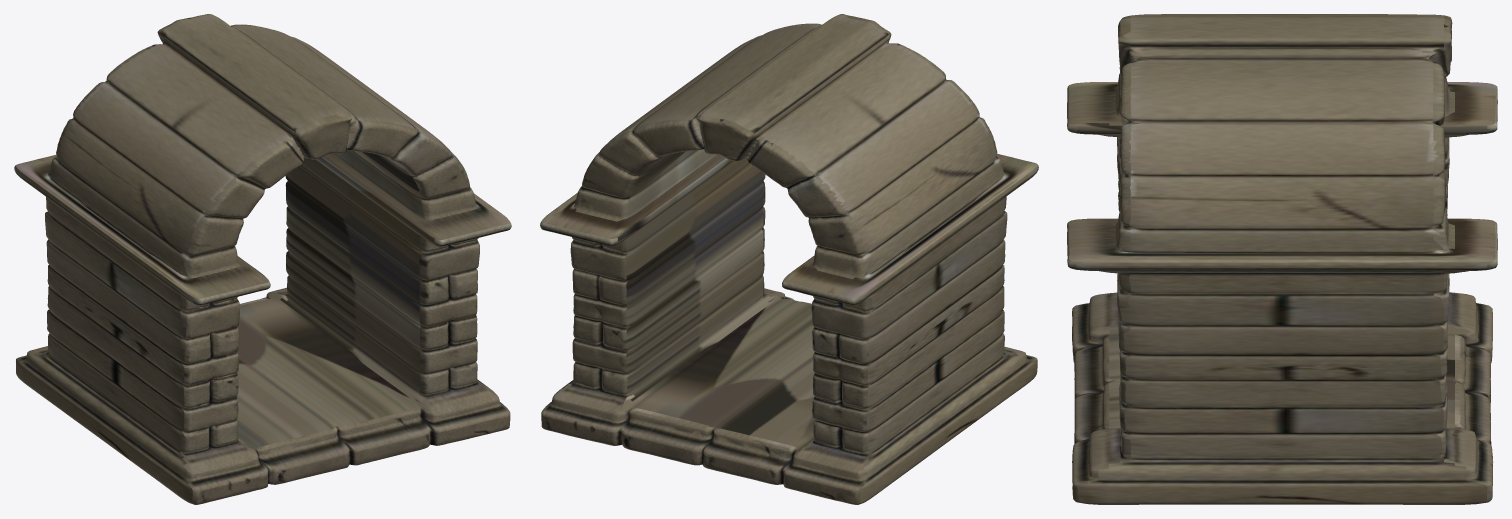
The model's file is feature-arched-window.glb.
3 views of the same model, side by side, from view 1: azimuth 30°, elevation 25°; view 2: azimuth 150°, elevation 25°; view 3: azimuth 270°, elevation 25° (orthographic). The views are drawn at different scales.
Parts seen in each view (by area): view 1: tmpvdy3h1s5.ply; view 2: tmpvdy3h1s5.ply; view 3: tmpvdy3h1s5.ply.
Boxes of the visible parts, box(x1,y1,x2,y2) form: tmpvdy3h1s5.ply: box(14, 14, 511, 504); tmpvdy3h1s5.ply: box(540, 14, 1038, 504); tmpvdy3h1s5.ply: box(1067, 14, 1497, 504).
Size of the model in its own units: 1 by 1 by 1.
Materials: 1 (1 with a texture image).
